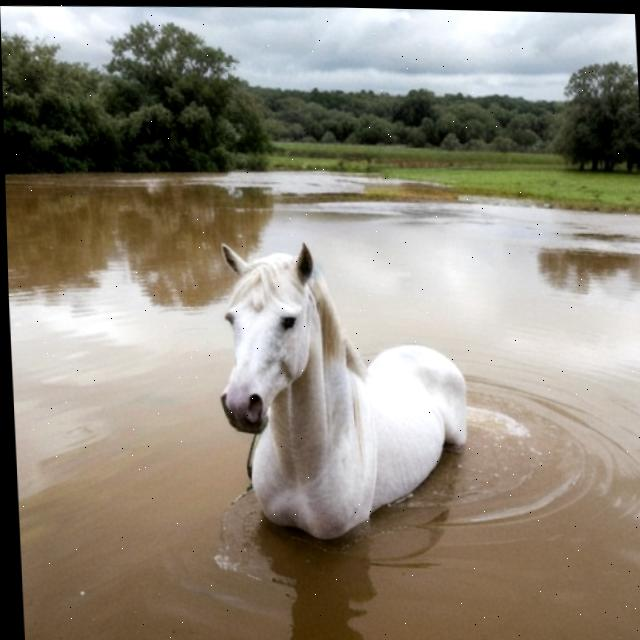horse: (195, 220, 496, 567)
